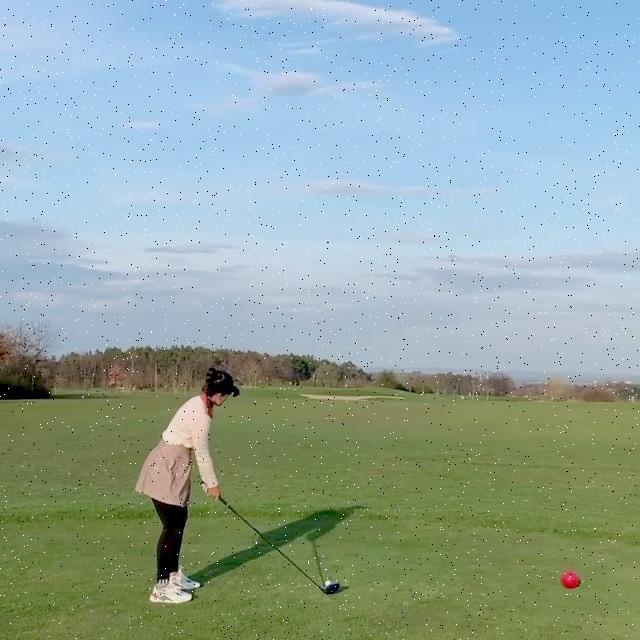ClubHead: (324, 582, 341, 594)
GolfBall: (326, 581, 332, 587)
